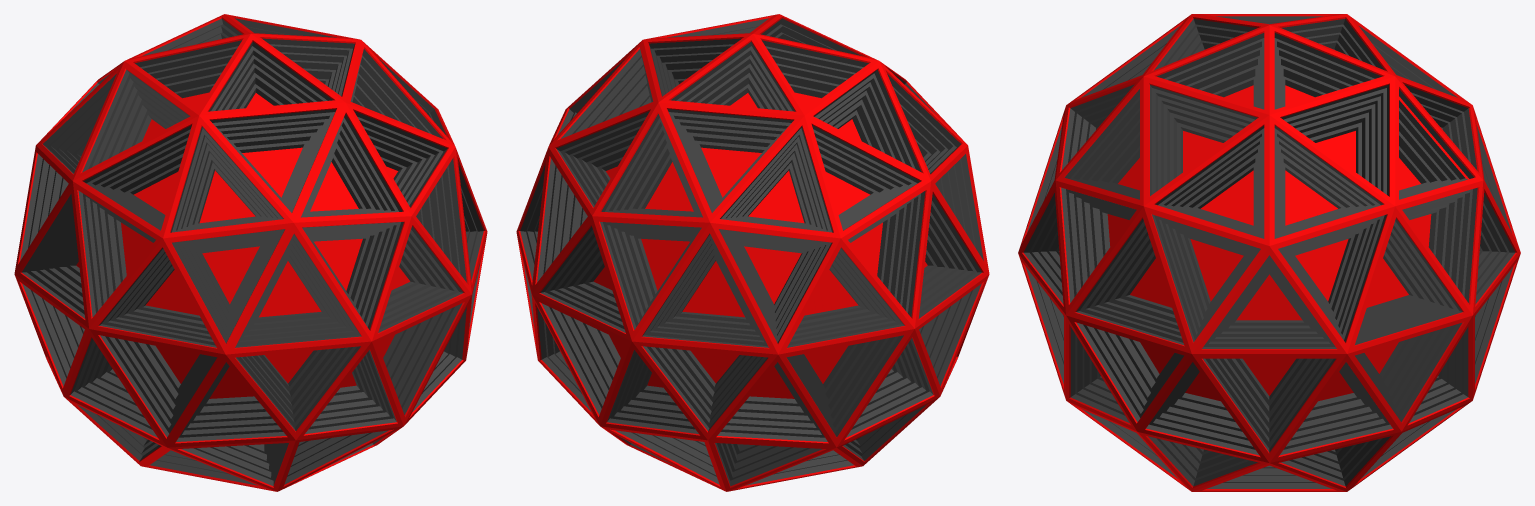
The model's file is spike_red_ball.glb.
The picture shows the model from 3 angles, left to right: view 1: azimuth 30°, elevation 25°; view 2: azimuth 150°, elevation 25°; view 3: azimuth 270°, elevation 25°; orthographic projection. The views are drawn at different scales.
Parts seen in each view (by area): view 1: Icosphere.001_0; view 2: Icosphere.001_0; view 3: Icosphere.001_0.
Boxes of the visible parts, bbox=[...] form: Icosphere.001_0: bbox=[14, 14, 487, 491]; Icosphere.001_0: bbox=[516, 14, 989, 491]; Icosphere.001_0: bbox=[1018, 14, 1520, 491].
Bounding box in the file's own units: 0.9994 × 1.05 × 1.05.
